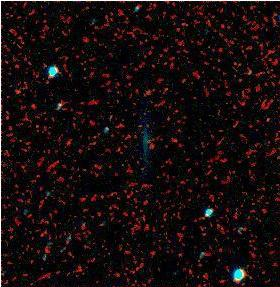star: (135, 76, 165, 106)
